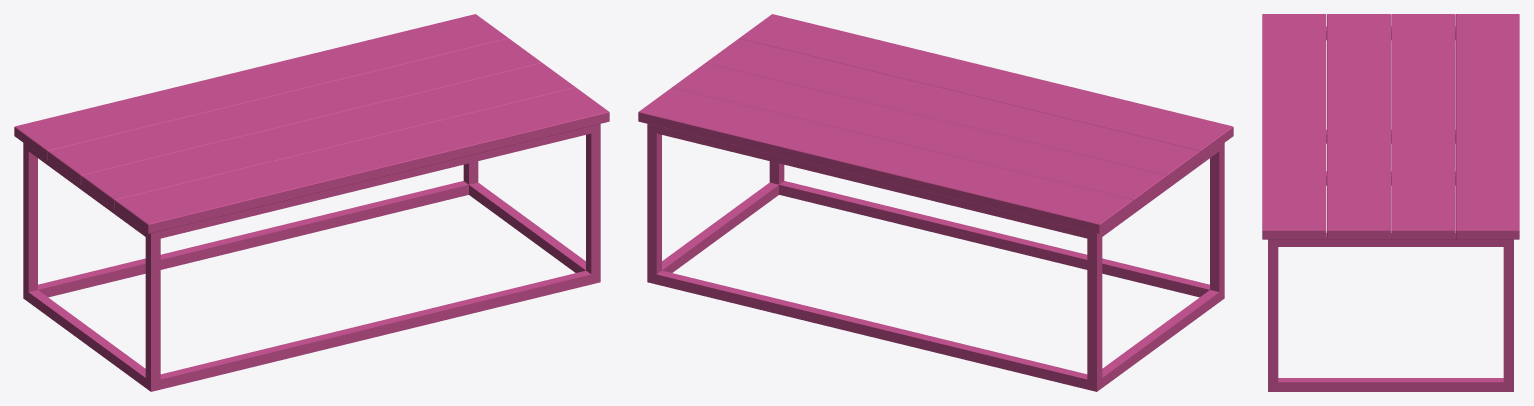
Rendered from Coffee_Table_Gen_3.fbx.
3 views of the same model, side by side, from view 1: azimuth 30°, elevation 25°; view 2: azimuth 150°, elevation 25°; view 3: azimuth 270°, elevation 25° (orthographic). The views are drawn at different scales.
Visible parts, largest first — view 1: mesh_coffee_table; view 2: mesh_coffee_table; view 3: mesh_coffee_table.
Part boxes in pixels (x1,y1,x2,y2): mesh_coffee_table: [14, 14, 609, 391]; mesh_coffee_table: [638, 14, 1233, 391]; mesh_coffee_table: [1262, 14, 1519, 391].
Size of the model in its own units: 141 by 49.83 by 70.65.
